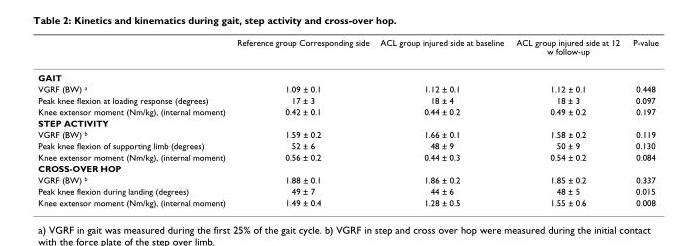table: (37, 36, 657, 207)
table column: (37, 36, 230, 207), (230, 36, 374, 207), (374, 36, 509, 207), (509, 36, 625, 207), (625, 36, 657, 207)
table column header: (37, 36, 657, 63)
table projected row header: (37, 63, 657, 82), (37, 116, 657, 128), (37, 162, 657, 173)
table row: (37, 36, 657, 63), (37, 63, 657, 82), (37, 82, 657, 94), (37, 116, 657, 128), (37, 139, 657, 151), (37, 173, 657, 185), (37, 94, 657, 105), (37, 105, 657, 116), (37, 128, 657, 139), (37, 151, 657, 162), (37, 162, 657, 173), (37, 185, 657, 196), (37, 196, 657, 207)
